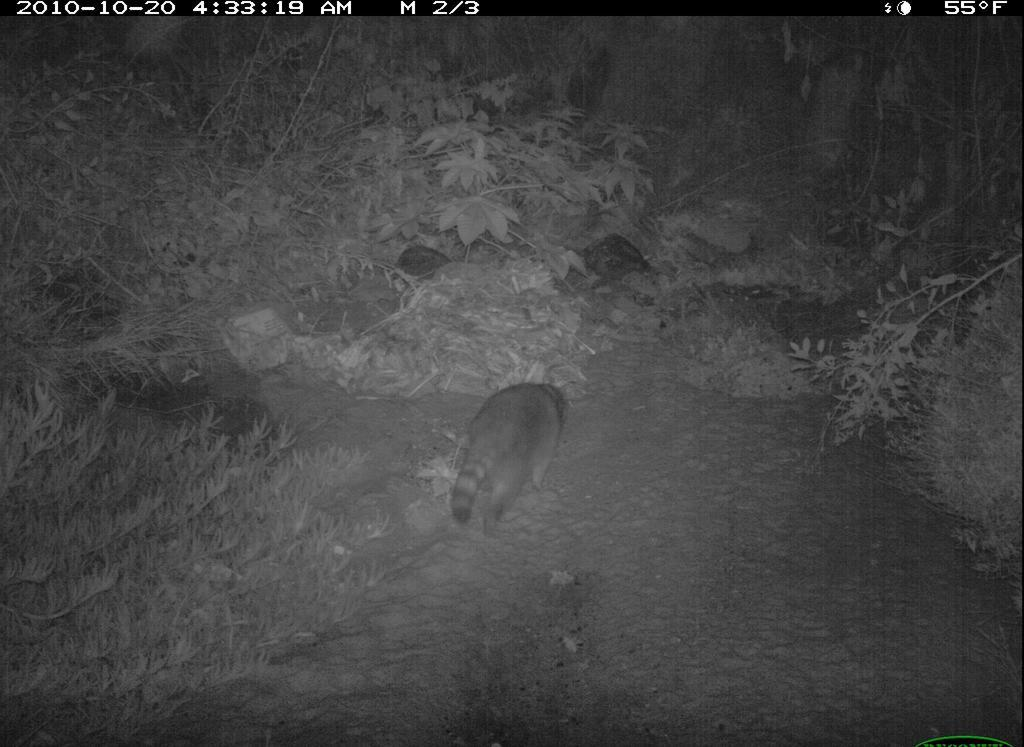raccoon: (447, 362, 577, 537)
